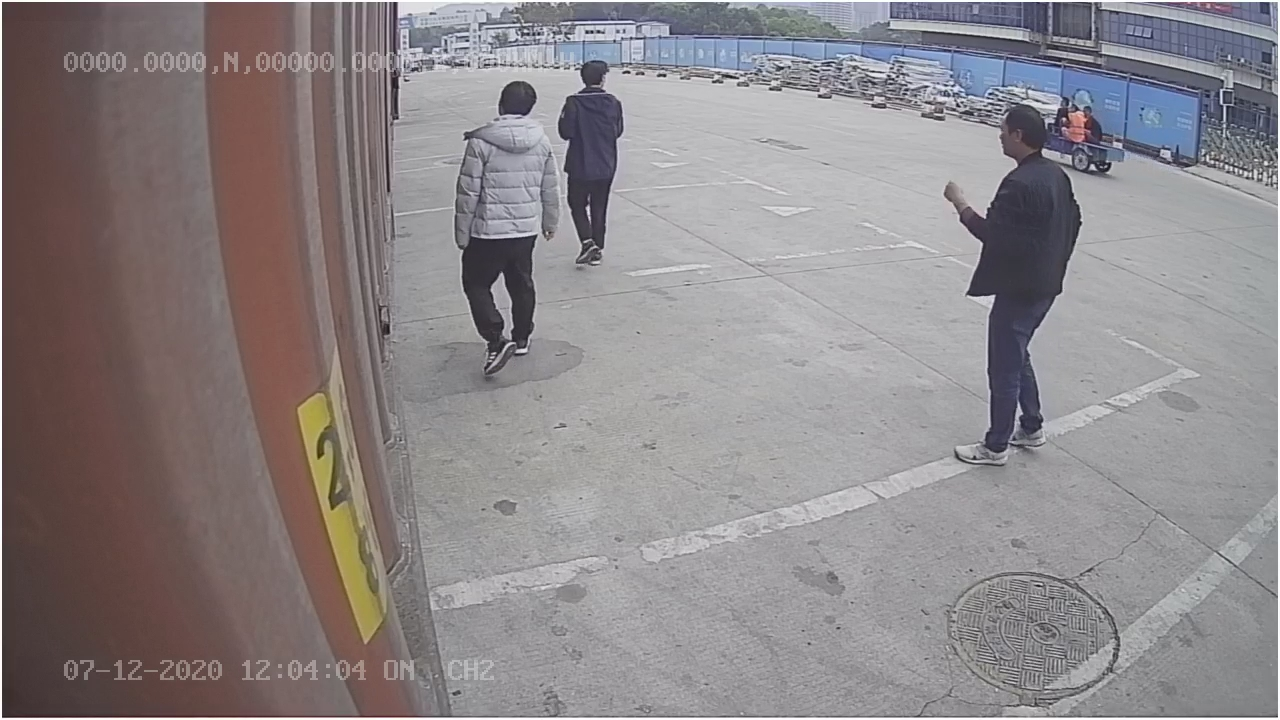person: (936, 101, 1087, 467), (448, 74, 562, 384)
